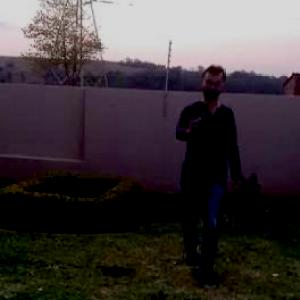takeoff-hand: (175, 104, 216, 140)
